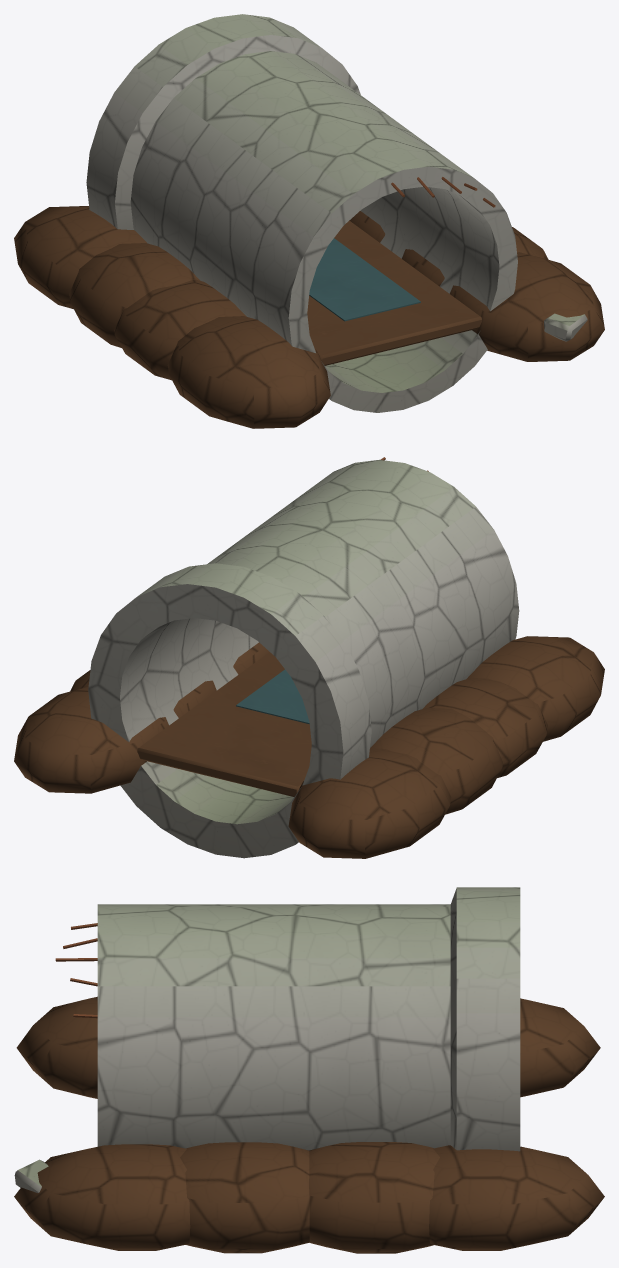
The model's file is culvert_pipe.glb.
3 renders of one model, top to bottom at view 1: azimuth 30°, elevation 25°; view 2: azimuth 150°, elevation 25°; view 3: azimuth 270°, elevation 25°, orthographic. The views are drawn at different scales.
Parts seen in each view (by area): view 1: culvert_pipe; view 2: culvert_pipe; view 3: culvert_pipe.
Part boxes in pixels (x1,y1,x2,y2): culvert_pipe: (14, 14, 604, 428); culvert_pipe: (14, 457, 604, 858); culvert_pipe: (14, 887, 604, 1253).
Size of the model in its own units: 3.63 by 2.34 by 4.2.
Materials: 5 (5 with a texture image).
